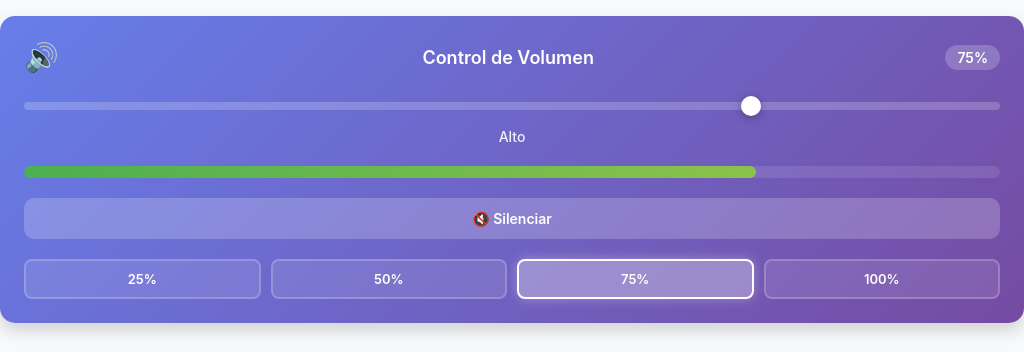
Test case: VolumeSlider › Slider Interaction › should disable slider while loading
The image size is (1024, 352).
Set the slider to "50": (512, 106) 24,102 -> 1000,110
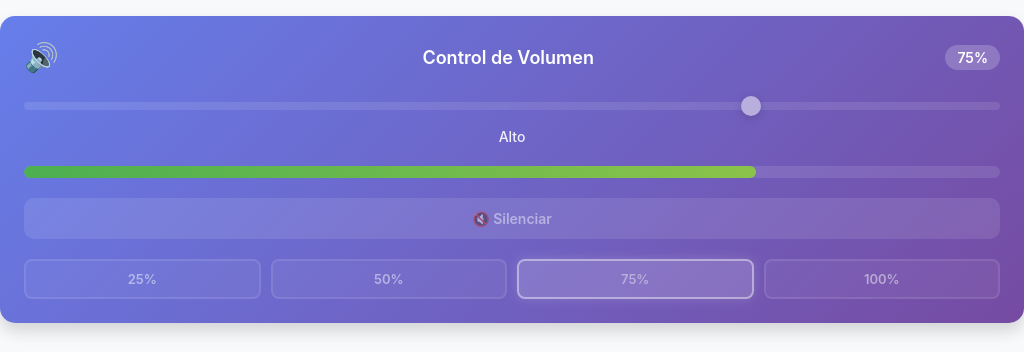
Now the slider is disabled, box 24,102 -> 1000,110
